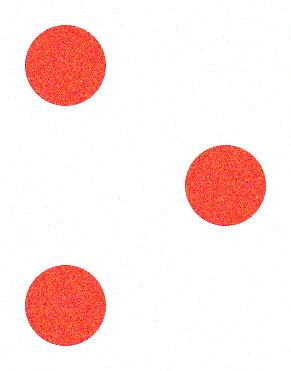O: (21, 18, 270, 351)
